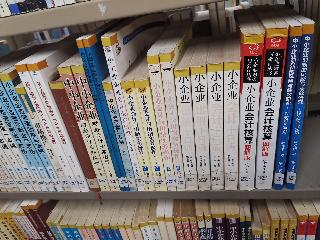book-spine: (14, 60, 82, 196), (25, 59, 90, 196), (0, 71, 65, 196), (75, 37, 126, 194), (57, 63, 111, 195), (83, 39, 129, 193), (70, 63, 122, 195), (102, 36, 145, 194), (14, 85, 72, 195), (48, 79, 102, 197), (0, 83, 55, 193), (252, 26, 288, 190), (270, 24, 304, 190), (233, 32, 265, 190), (284, 22, 314, 190), (145, 53, 177, 192), (101, 80, 138, 194), (119, 78, 155, 193), (158, 53, 186, 193), (135, 79, 167, 194), (173, 68, 199, 191), (220, 61, 241, 191), (190, 66, 211, 192), (207, 63, 227, 190)
